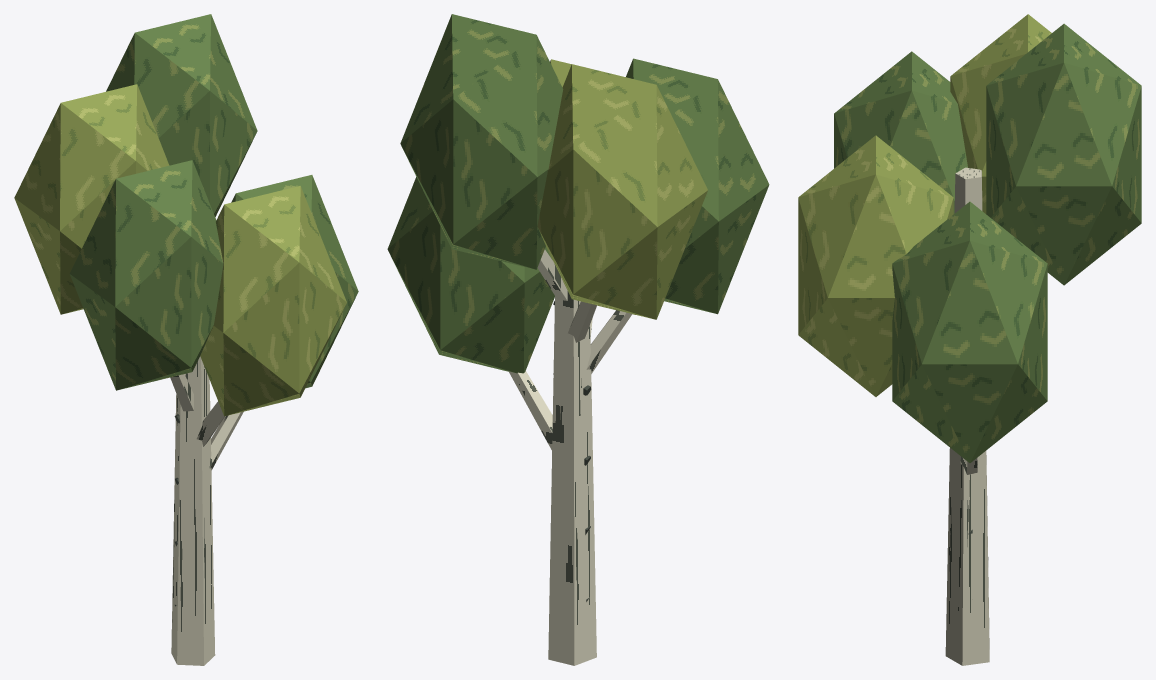
Rendered from arvore-betula-v02.gltf.
3 renders of one model, left to right at view 1: azimuth 30°, elevation 25°; view 2: azimuth 150°, elevation 25°; view 3: azimuth 270°, elevation 25°, orthographic. The views are drawn at different scales.
Visible parts, largest first — view 1: tronco-galhos-copa; view 2: tronco-galhos-copa; view 3: tronco-galhos-copa.
Part boxes in pixels (x1,y1,x2,y2): tronco-galhos-copa: [14, 14, 358, 665]; tronco-galhos-copa: [387, 14, 769, 665]; tronco-galhos-copa: [798, 14, 1141, 665].
Bounding box in the file's own units: 2.16 × 4.54 × 2.26.
Materials: 1 (1 with a texture image).
